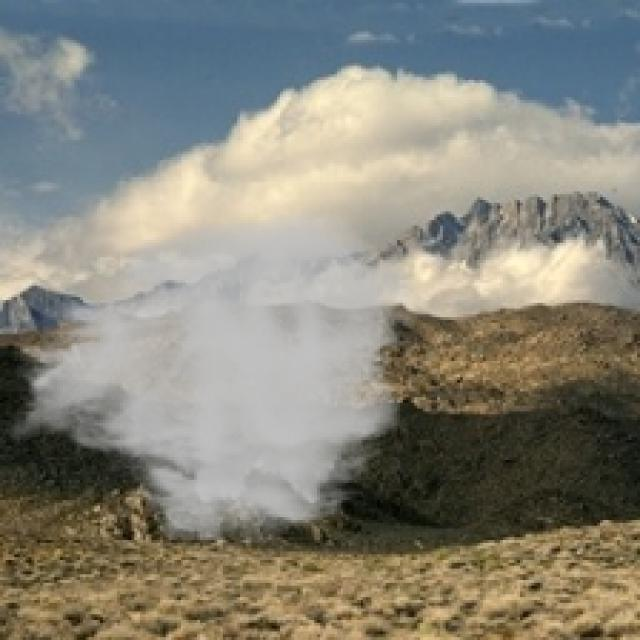Smoke: (0, 206, 423, 548)
